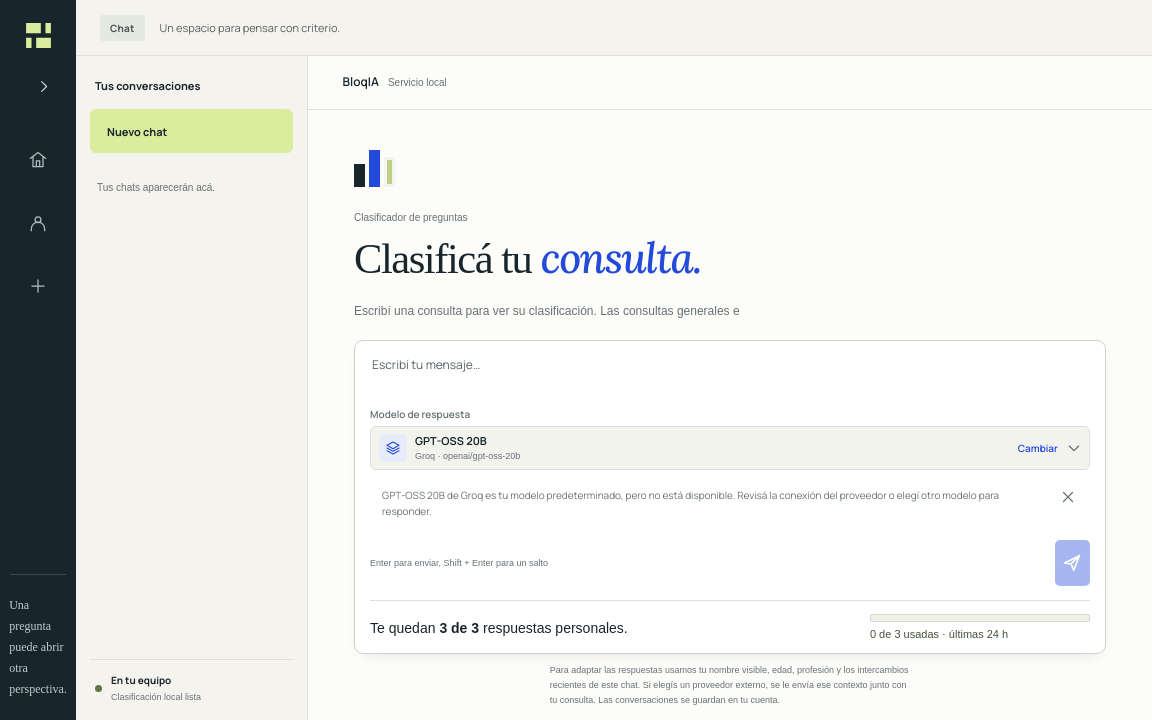
Scenario: cancelling restores the editable prompt without sending acceptance or consuming a response
Step 1. Click the dropdown named "Modelo de respuesta" → (451,440), box [370, 426, 1090, 470]
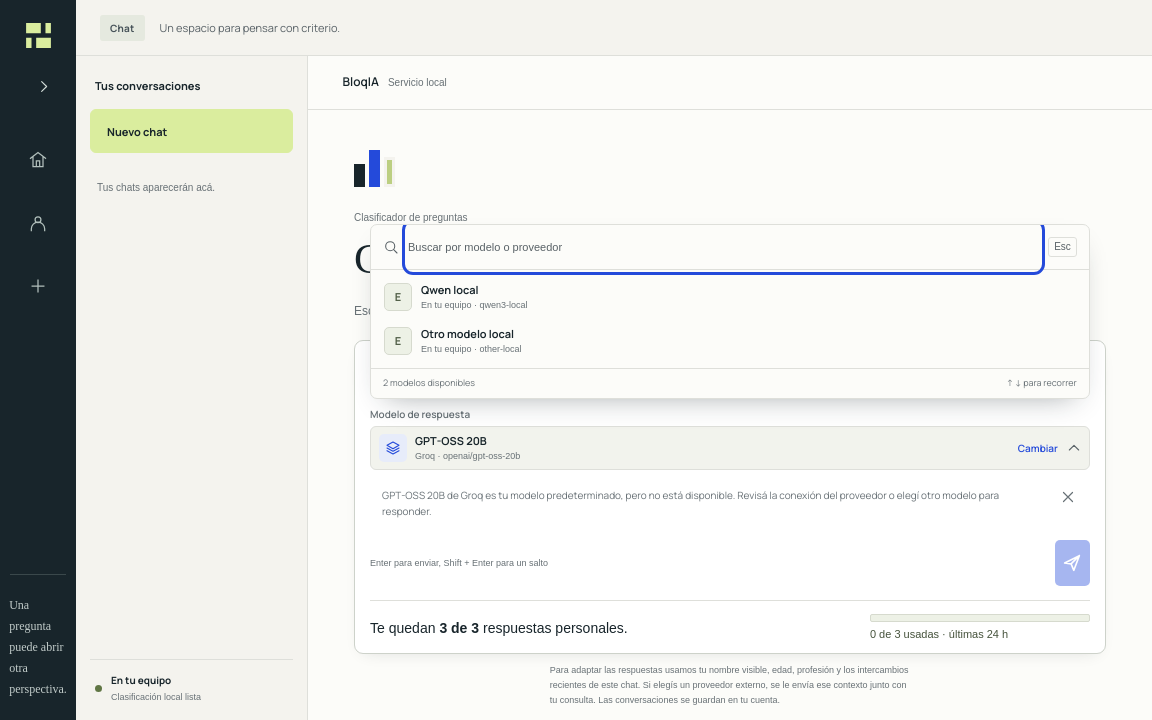
Step 2. Click the option "E Otro modelo local En tu equipo · other-local" → (468,334), box [376, 319, 1084, 363]
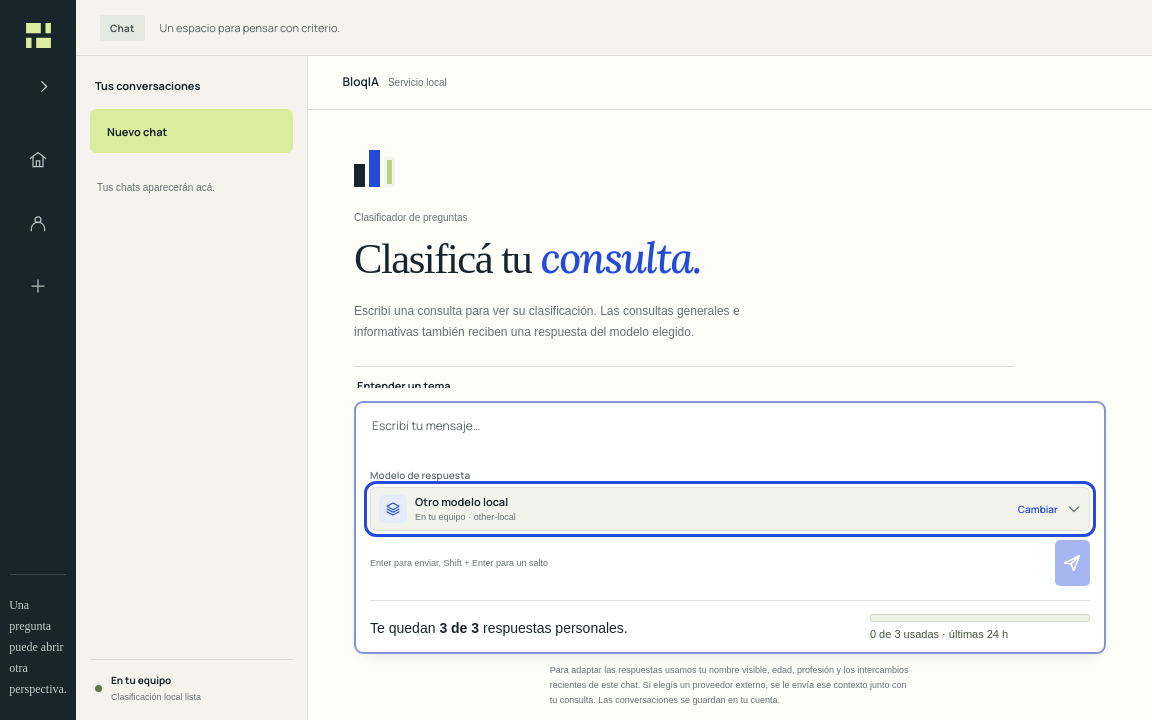
Step 3. Type "¿Qué factores debería considerar antes de cambiar de trabajo?" into the text box named "Mensaje para BloqIA" → (730,437), box [370, 416, 1090, 459]
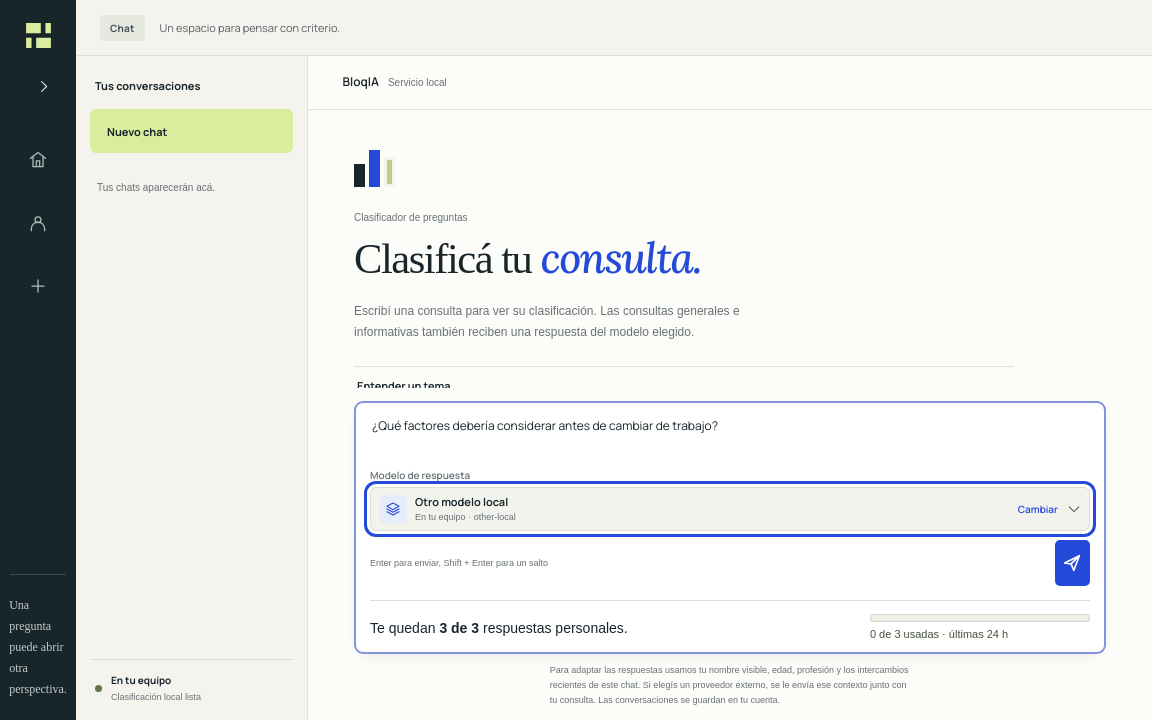
Step 4. Click the button named "Enviar mensaje" → (1072,563), box [1055, 540, 1090, 586]
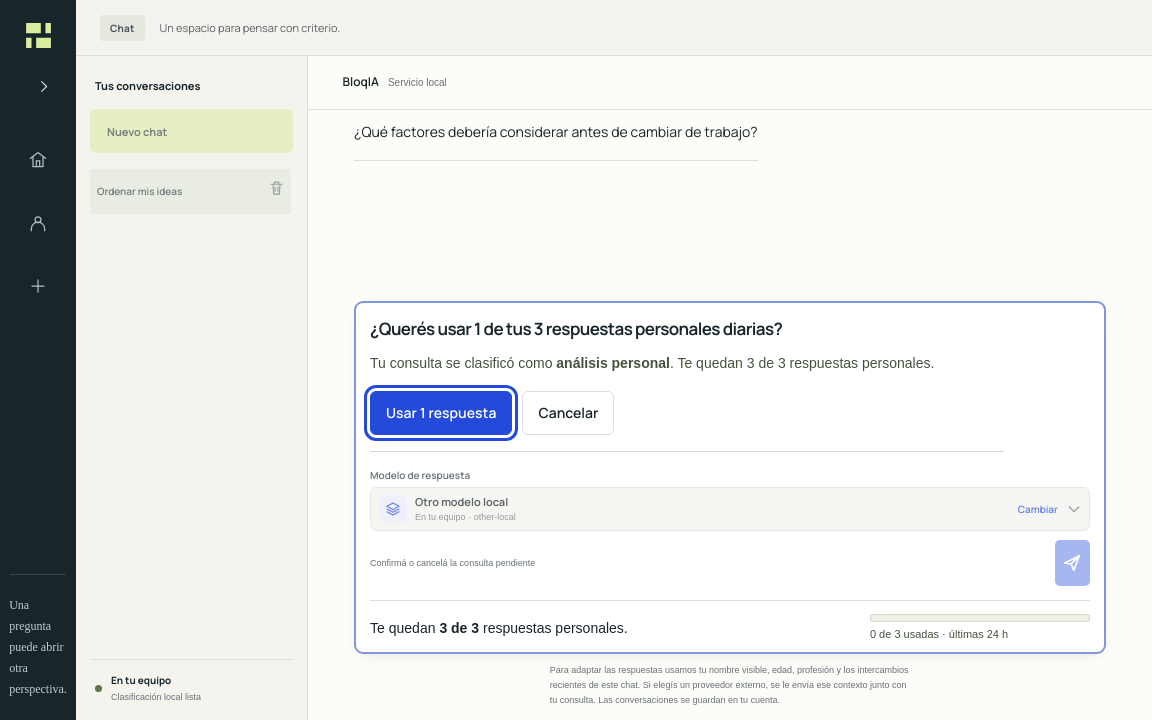
Step 5. Click the button "Cancelar" → (568,413), box [522, 391, 614, 435]
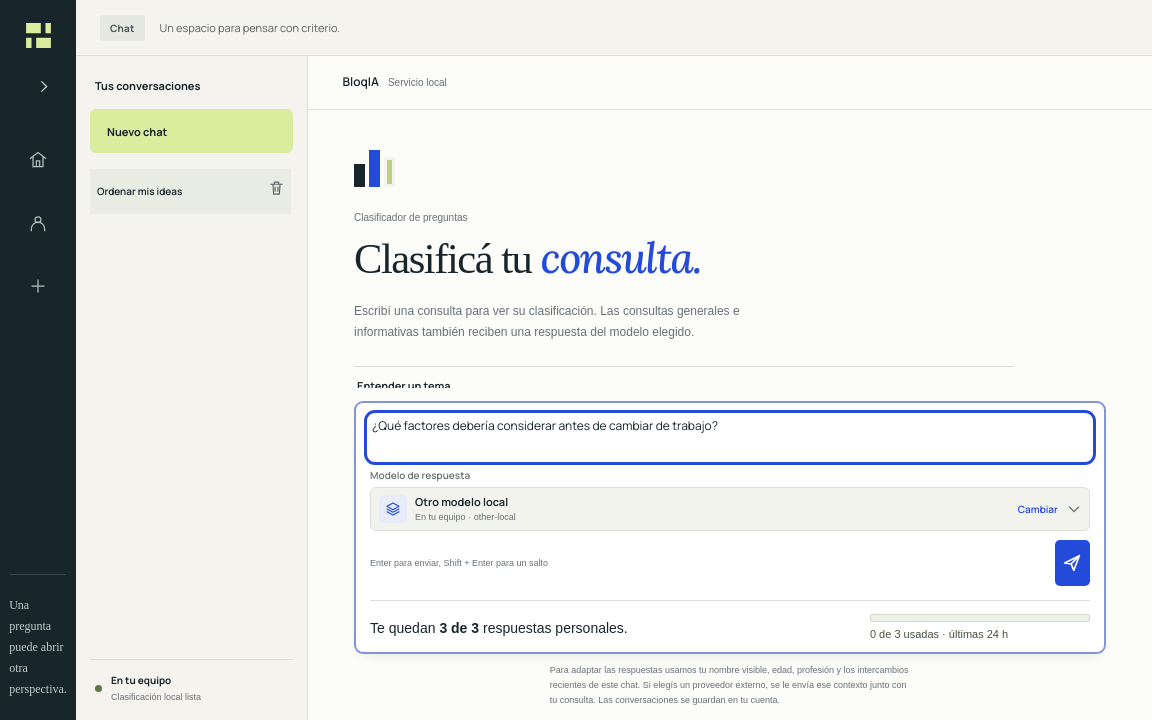
Now the text box named "Mensaje para BloqIA" is enabled, box [370, 416, 1090, 459]
